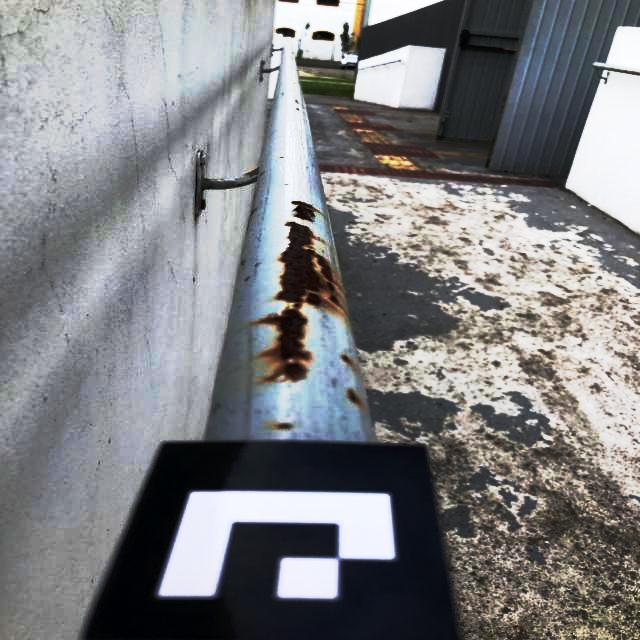Corrosion: (242, 220, 345, 382), (290, 200, 320, 222), (348, 389, 362, 405), (340, 354, 352, 364), (276, 423, 291, 430), (201, 200, 206, 209), (246, 171, 255, 174), (295, 100, 299, 104), (624, 70, 627, 73), (296, 108, 300, 110), (204, 179, 208, 180), (280, 157, 283, 158), (285, 184, 288, 185)
